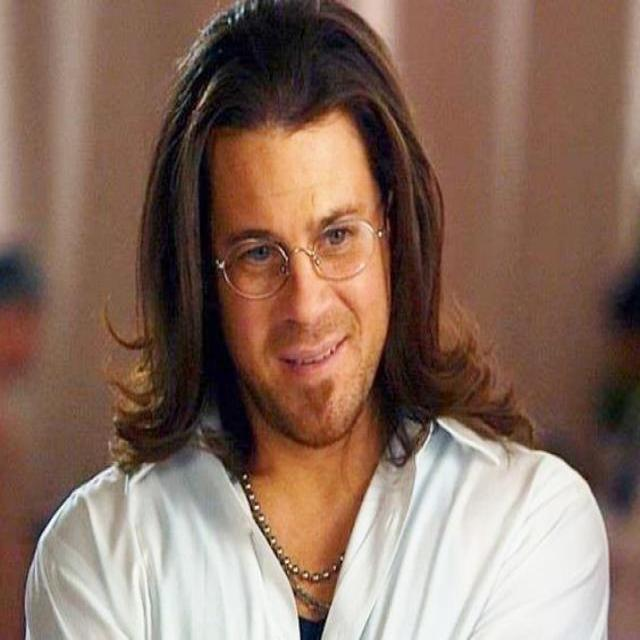glasses: (206, 200, 390, 302)
